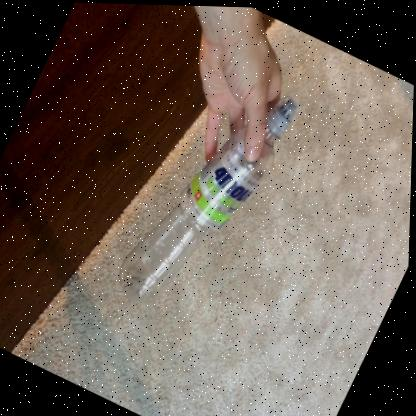Plastic: (119, 93, 297, 304)
